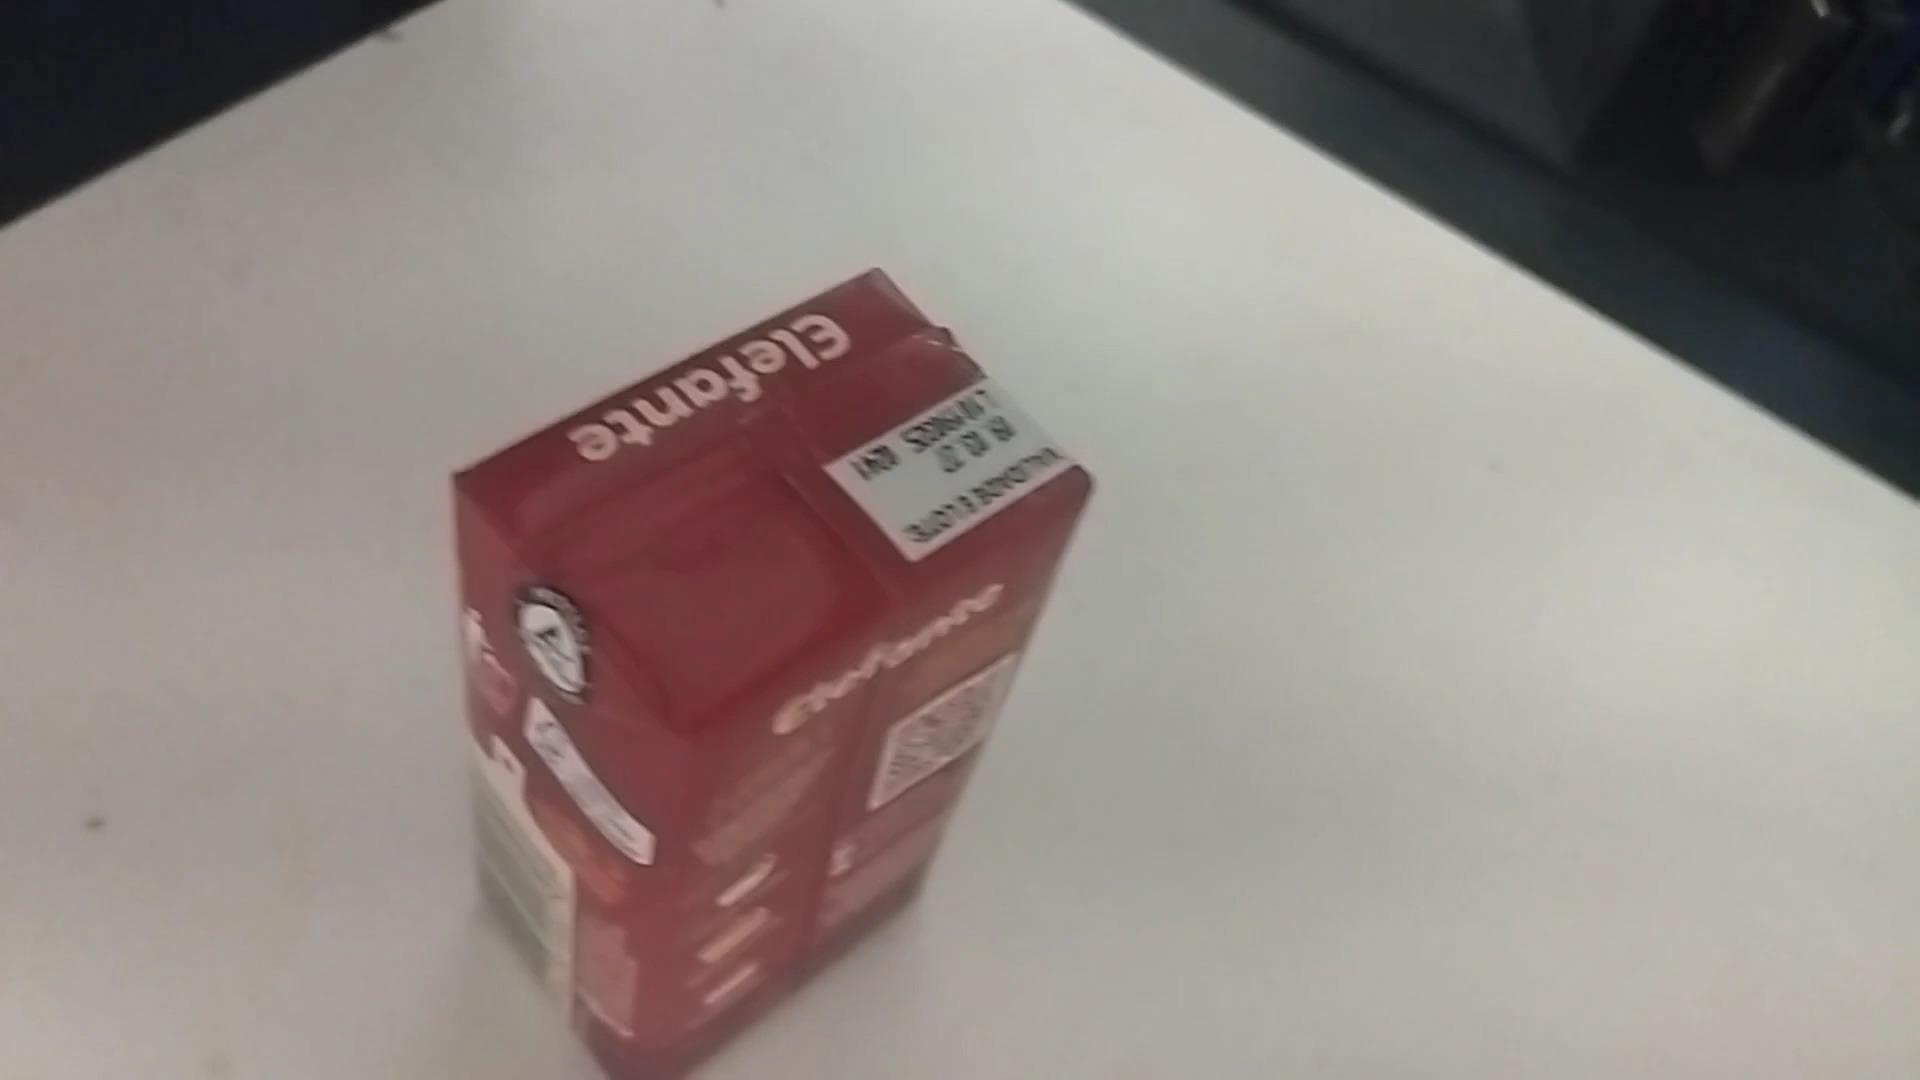tomate: (438, 264, 1108, 1069)
